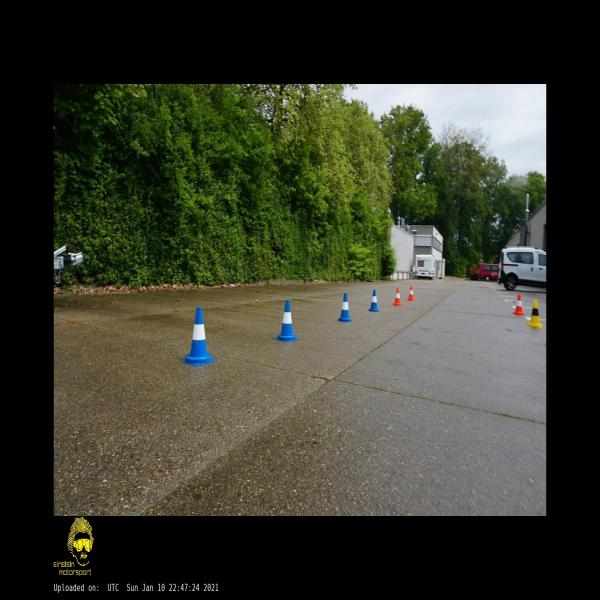blue_cone: (182, 308, 216, 366), (275, 300, 298, 342), (338, 294, 352, 322), (369, 289, 379, 312)
orange_cone: (514, 294, 524, 316), (393, 287, 402, 306), (407, 286, 415, 301)
yellow_cone: (528, 300, 542, 328)
